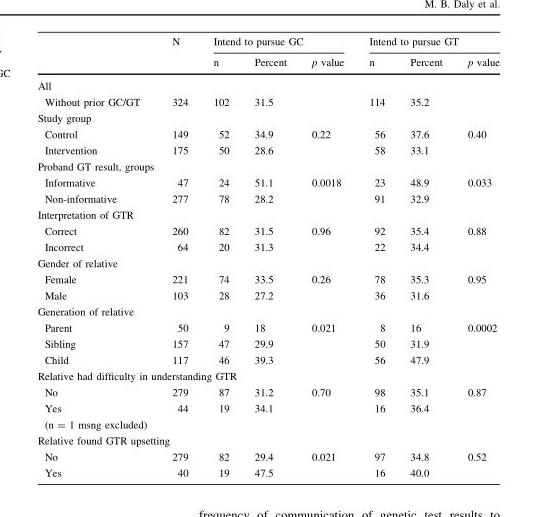table: (36, 36, 499, 478)
table column: (36, 36, 158, 478), (241, 36, 298, 478), (298, 36, 355, 478), (397, 36, 454, 478), (454, 36, 499, 478), (158, 36, 200, 478), (355, 36, 397, 478), (200, 36, 241, 478)
table column header: (36, 36, 499, 74)
table projected row header: (36, 74, 499, 94), (36, 110, 499, 126), (36, 158, 499, 174), (36, 207, 499, 223), (36, 255, 499, 271), (36, 303, 499, 319), (36, 368, 499, 384), (36, 416, 499, 432), (36, 432, 499, 448)
table row: (36, 51, 499, 74), (36, 74, 499, 94), (36, 190, 499, 207), (36, 335, 499, 352), (36, 94, 499, 110), (36, 110, 499, 126), (36, 126, 499, 142), (36, 142, 499, 158), (36, 158, 499, 174), (36, 174, 499, 190), (36, 207, 499, 223), (36, 223, 499, 239), (36, 239, 499, 255), (36, 255, 499, 271), (36, 271, 499, 287), (36, 287, 499, 303), (36, 303, 499, 319), (36, 319, 499, 335), (36, 352, 499, 368), (36, 368, 499, 384), (36, 384, 499, 400), (36, 400, 499, 416), (36, 416, 499, 432), (36, 432, 499, 448), (36, 448, 499, 464), (36, 36, 499, 51), (36, 464, 499, 478)
table spanning cell: (200, 36, 355, 51), (355, 36, 499, 51), (158, 36, 200, 74)
